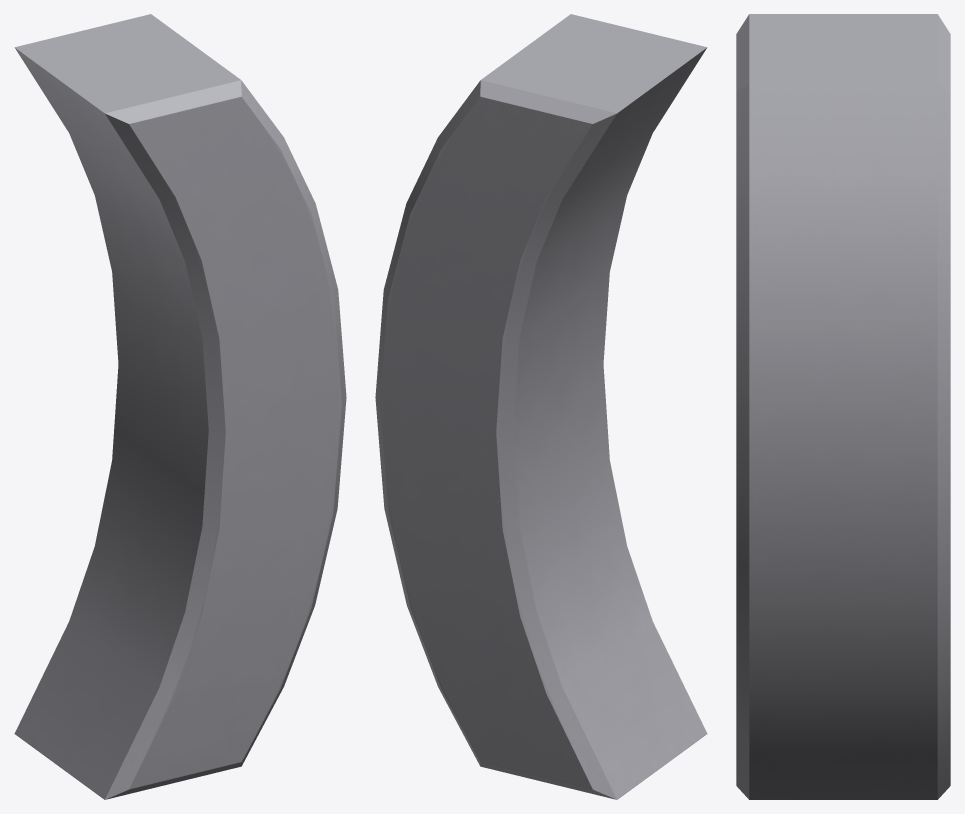
Rendered from ParenthesesClose.FBX.
3 views of the same model, side by side, from view 1: azimuth 30°, elevation 25°; view 2: azimuth 150°, elevation 25°; view 3: azimuth 270°, elevation 25° (orthographic). The views are drawn at different scales.
Visible parts, largest first — view 1: ParenthesesClose; view 2: ParenthesesClose; view 3: ParenthesesClose.
Part boxes in pixels (box(x1,y1,x2,y2)): ParenthesesClose: box(14, 14, 346, 799); ParenthesesClose: box(375, 14, 707, 799); ParenthesesClose: box(736, 14, 950, 799).
Bounding box in the file's own units: 44.83 × 122 × 33.
